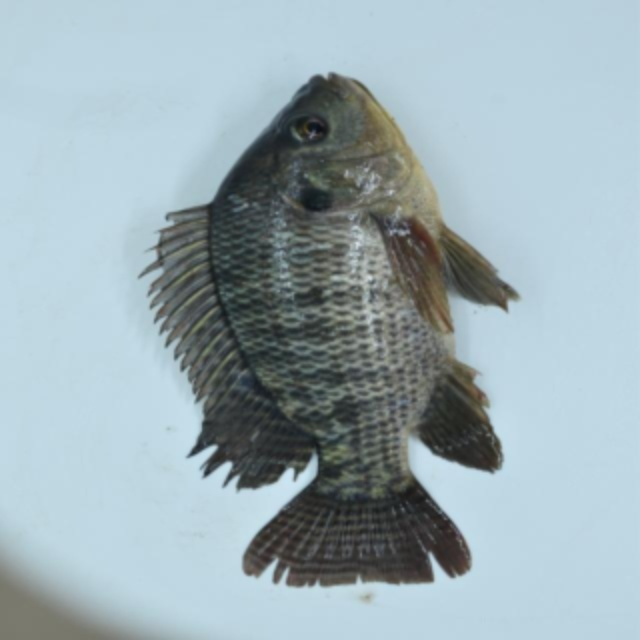Healthy Fish: (135, 67, 514, 595)
